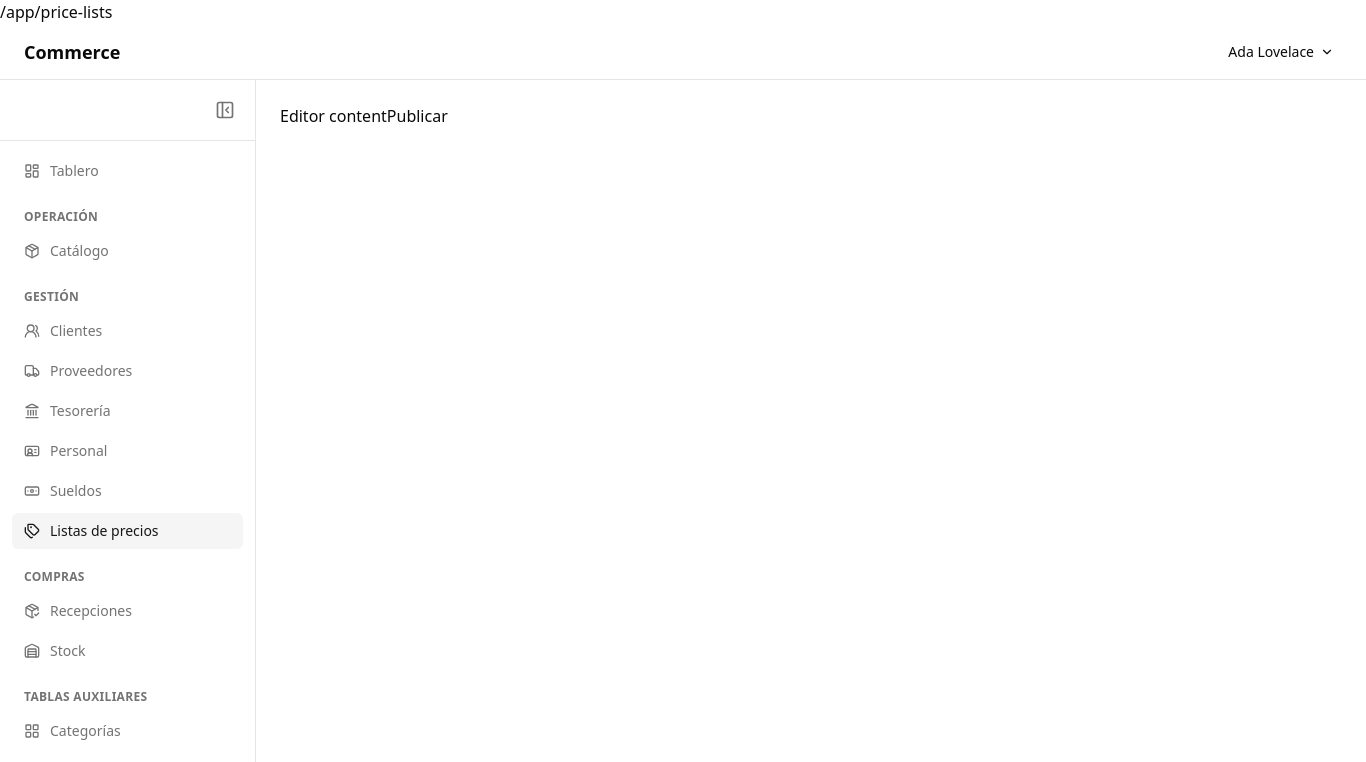
Test: AppLayout › unsaved changes guard › the account menu link is guarded too
Click the button "Ada Lovelace" at point(1281, 52), box x1=1220 y1=36 x2=1342 y2=68
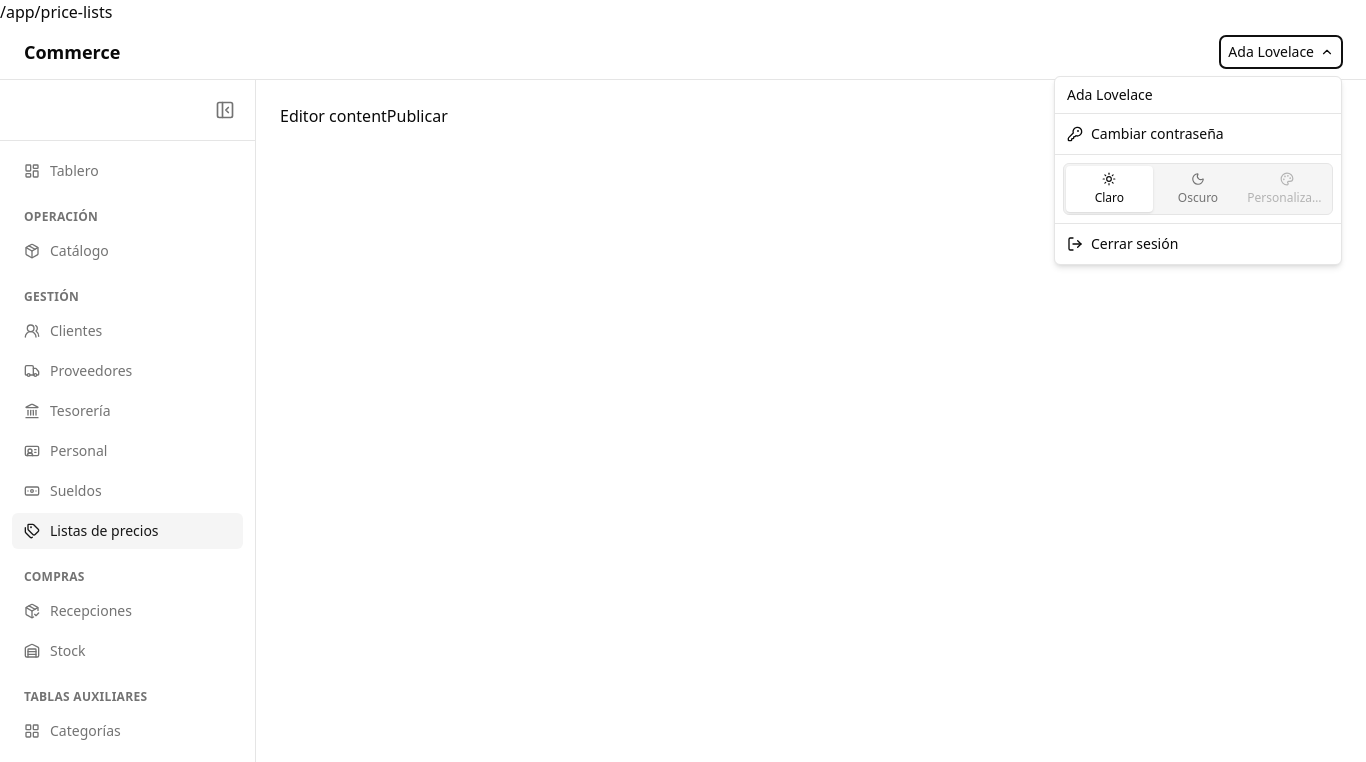
Click the menu item "Cambiar contraseña" at point(1145, 133), box x1=1067 y1=124 x2=1224 y2=142
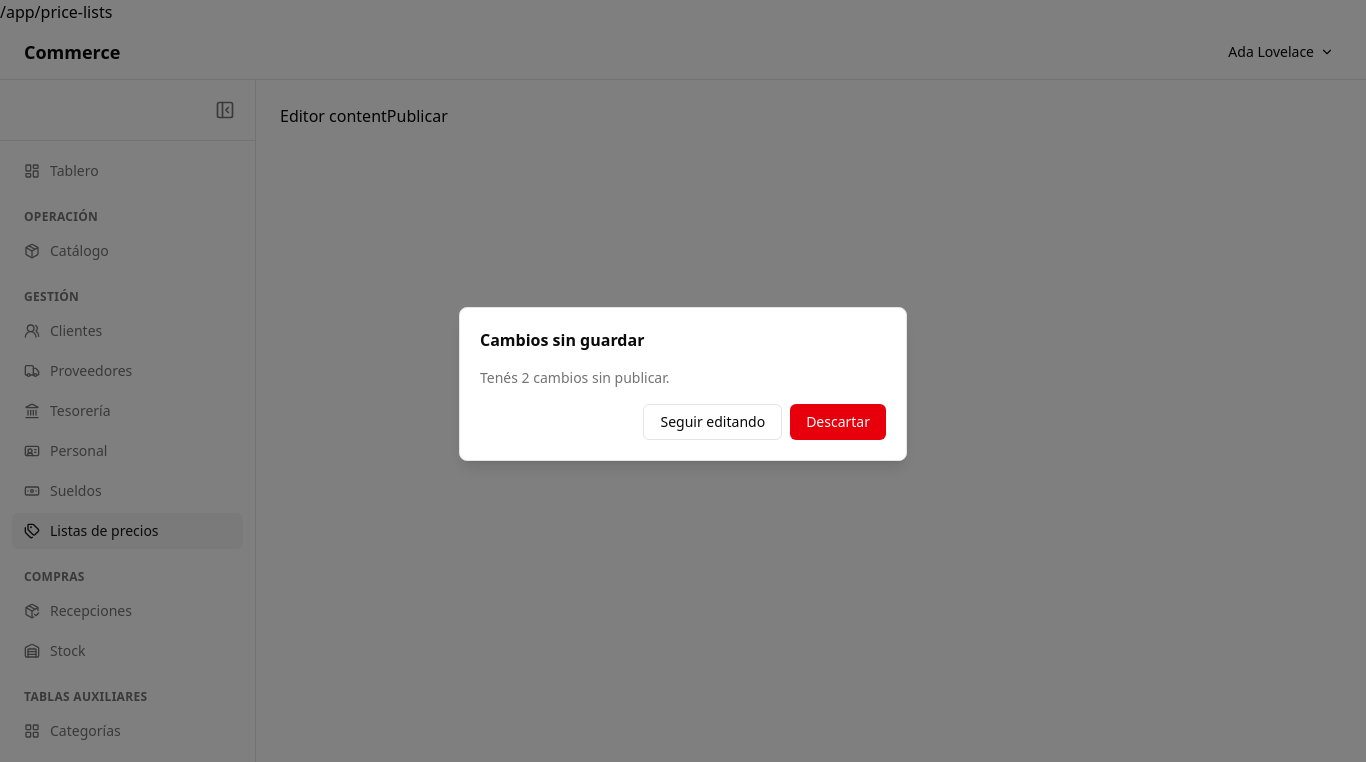
Check: the text with test id "path" reads "/app/price-lists", box x1=0 y1=1 x2=112 y2=23
Click the button "Descartar" at point(838, 422), box x1=790 y1=404 x2=886 y2=440
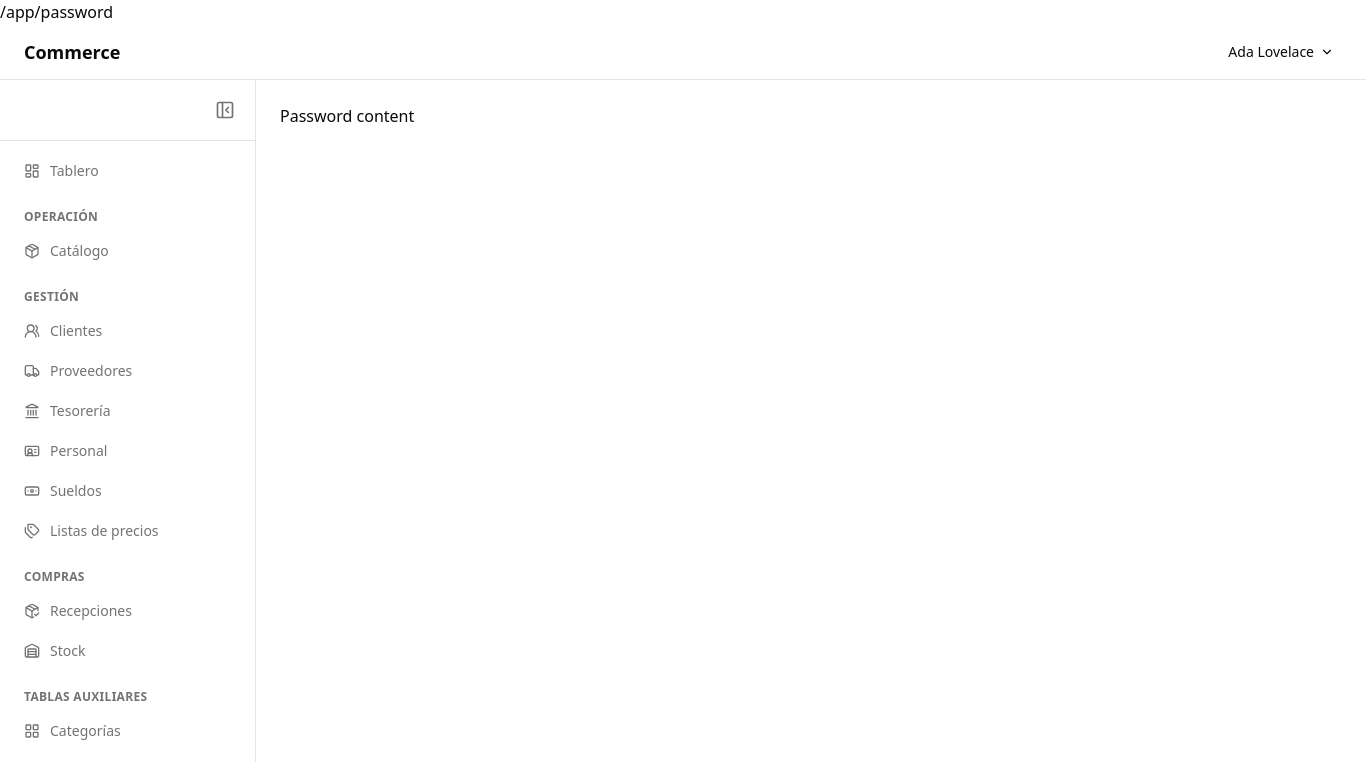
Check: the text "Password content" is shown, box x1=280 y1=105 x2=414 y2=127
